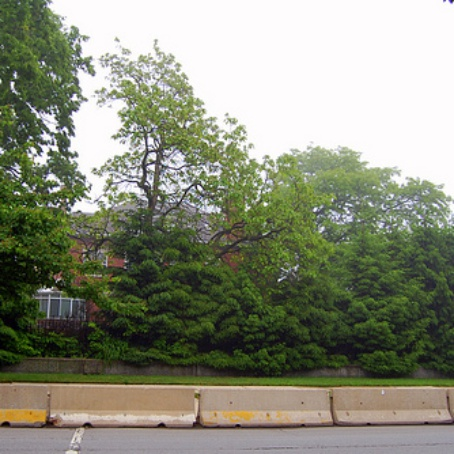sky: (105, 2, 446, 147)
vegetation: (1, 4, 454, 381)
